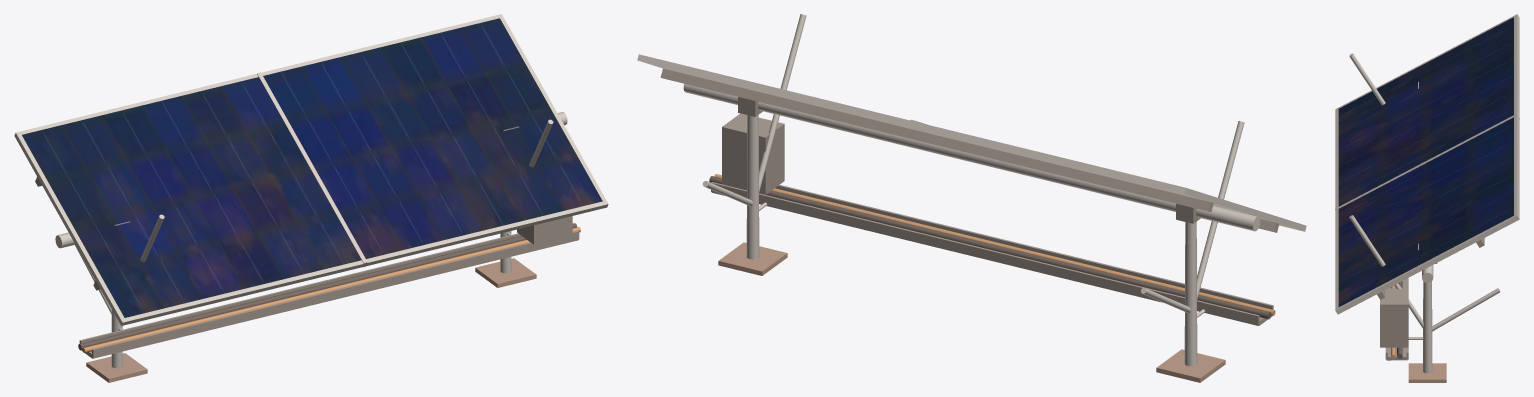
Rendered from E02_solar_row_5m.glb.
3 renders of one model, left to right at view 1: azimuth 30°, elevation 25°; view 2: azimuth 150°, elevation 25°; view 3: azimuth 270°, elevation 25°, orthographic. The views are drawn at different scales.
Parts seen in each view (by area): view 1: solar_cells, panel_frame, purlin, cable, post_foot; view 2: purlin, panel_frame, cable, post_foot; view 3: solar_cells, panel_frame, purlin, post_foot, cable.
Boxes of the visible parts, x1,y1,x2,y2 form: solar_cells: (22, 18, 602, 317); panel_frame: (14, 14, 608, 368); purlin: (35, 126, 579, 358); cable: (78, 223, 580, 352); post_foot: (86, 258, 536, 382); purlin: (660, 68, 1279, 325); panel_frame: (637, 14, 1306, 366); cable: (709, 174, 1275, 319); post_foot: (718, 242, 1225, 382); solar_cells: (1338, 17, 1513, 306); panel_frame: (1335, 14, 1519, 373); purlin: (1377, 82, 1484, 360); post_foot: (1408, 363, 1446, 382); cable: (1391, 281, 1402, 358).
Size of the model in its own units: 5.2 by 2.08 by 1.93.
Materials: 5 (1 with a texture image).
